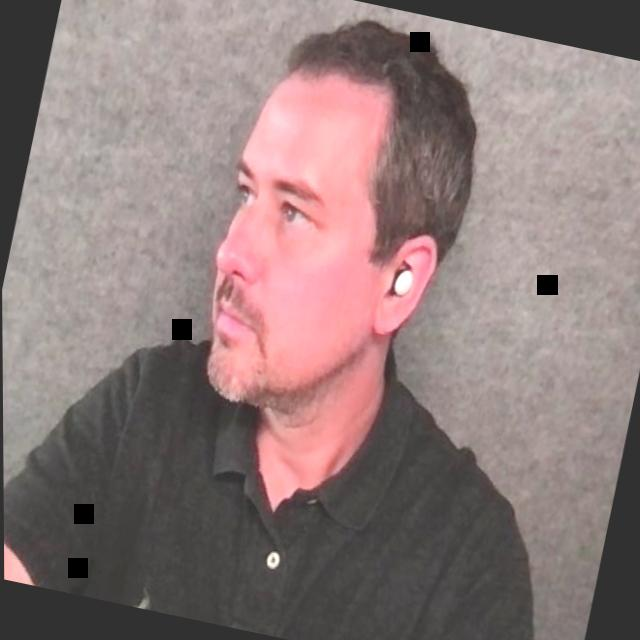NO-Mask: (180, 0, 503, 452)
